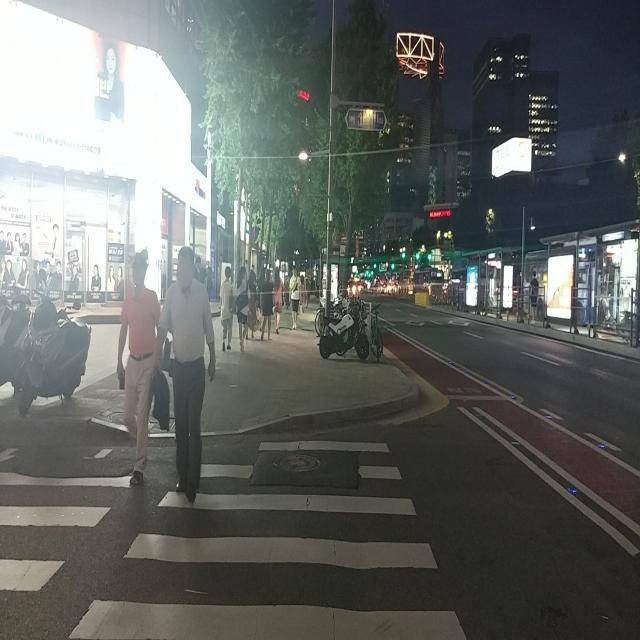횡단보도: (0, 437, 472, 640)
